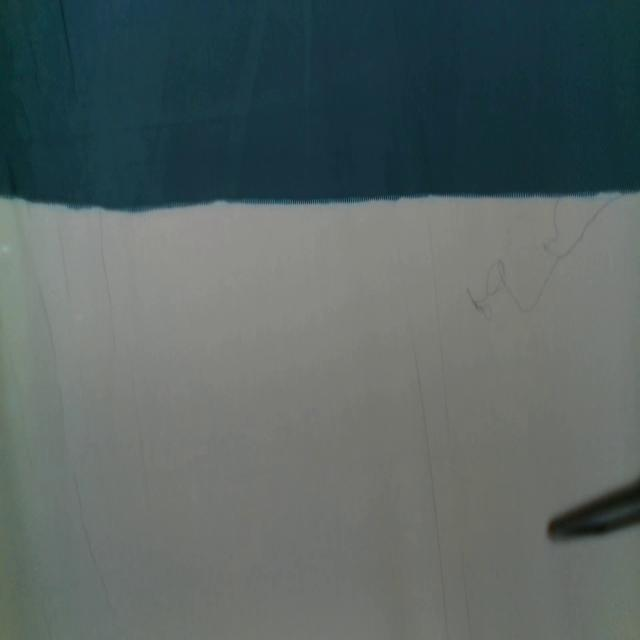crease: (428, 220, 473, 637), (414, 351, 448, 638), (74, 474, 112, 607), (99, 208, 119, 354), (34, 269, 58, 367), (57, 220, 71, 301)
